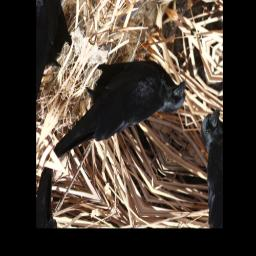Crow: (51, 24, 194, 215)
